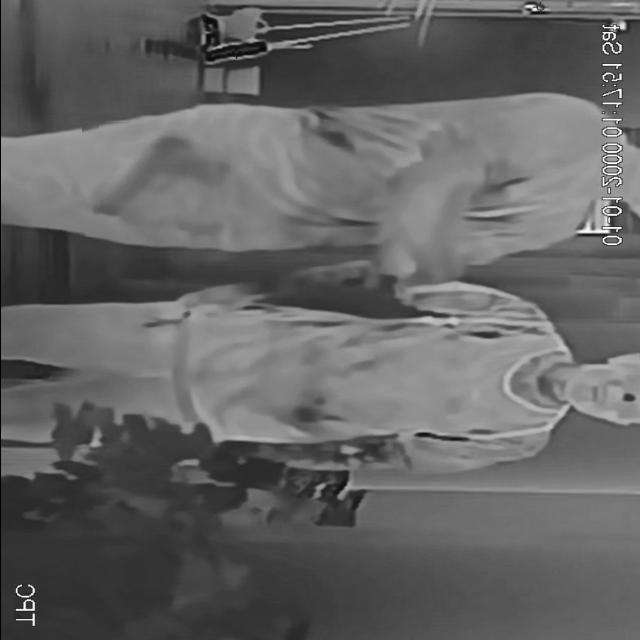Weapon: (82, 119, 232, 235)
